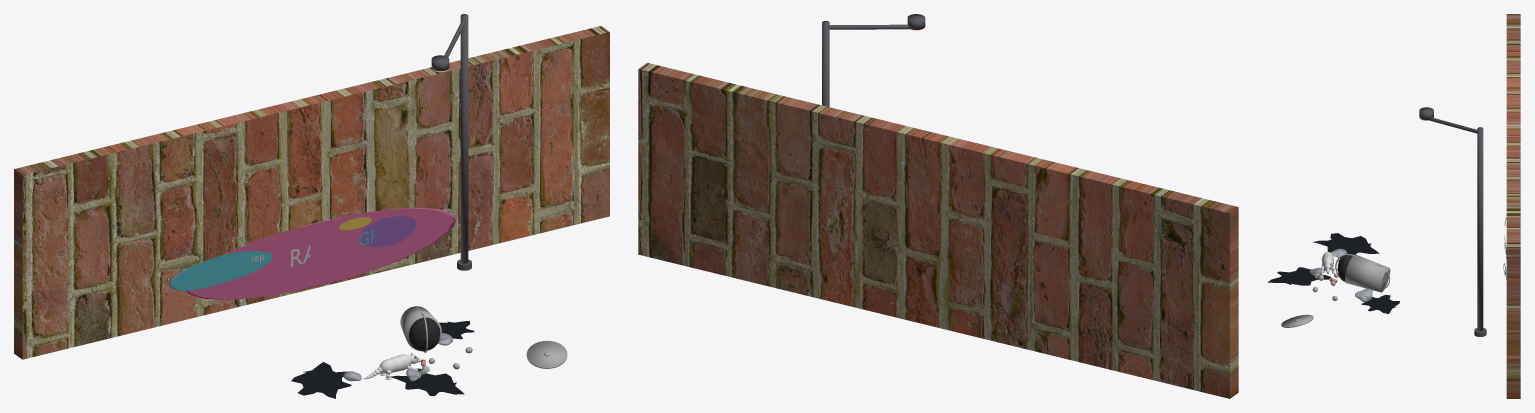
3 views of the same model, side by side, from view 1: azimuth 30°, elevation 25°; view 2: azimuth 150°, elevation 25°; view 3: azimuth 270°, elevation 25° (orthographic). The views are drawn at different scales.
Parts seen in each view (by area): view 1: Brick_Wall.001, Graffiti_Blob_1.001, Graffiti_Blob_2.001, Street_Lamp_Pole.001, Graffiti_Blob_3.001, Puddle_Back.001, Puddle_FG.001, Trash_Can_Lid.001, Trash_Bag_InCan.001, Trash_Can.001; view 2: Brick_Wall.001, Street_Lamp_Pole.001; view 3: Brick_Wall.001, Street_Lamp_Pole.001, Trash_Can.001, Puddle_Back.001, Puddle_FG.001, Puddle_Can.001, Trash_Can_Lid.001, Trash_Bag_InCan.001.
Boxes of the visible parts, left/top/right/bottom form: Brick_Wall.001: left=14, top=26, right=609, bottom=359; Graffiti_Blob_1.001: left=186, top=207, right=455, bottom=300; Graffiti_Blob_2.001: left=169, top=251, right=272, bottom=290; Street_Lamp_Pole.001: left=460, top=14, right=468, bottom=263; Graffiti_Blob_3.001: left=360, top=215, right=416, bottom=247; Puddle_Back.001: left=291, top=362, right=351, bottom=398; Puddle_FG.001: left=389, top=368, right=464, bottom=395; Trash_Can_Lid.001: left=526, top=340, right=567, bottom=368; Trash_Bag_InCan.001: left=409, top=317, right=440, bottom=351; Trash_Can.001: left=400, top=306, right=441, bottom=352; Brick_Wall.001: left=638, top=62, right=1238, bottom=398; Street_Lamp_Pole.001: left=822, top=21, right=829, bottom=106; Brick_Wall.001: left=1506, top=14, right=1520, bottom=398; Street_Lamp_Pole.001: left=1477, top=127, right=1483, bottom=331; Trash_Can.001: left=1335, top=254, right=1390, bottom=292; Puddle_Back.001: left=1313, top=233, right=1379, bottom=254; Puddle_FG.001: left=1267, top=267, right=1331, bottom=285; Puddle_Can.001: left=1361, top=294, right=1399, bottom=313; Trash_Can_Lid.001: left=1281, top=314, right=1313, bottom=327; Trash_Bag_InCan.001: left=1337, top=253, right=1352, bottom=281.
Bounding box in the file's own units: 10 × 4.17 × 4.57.
19 materials, 1 textured.
